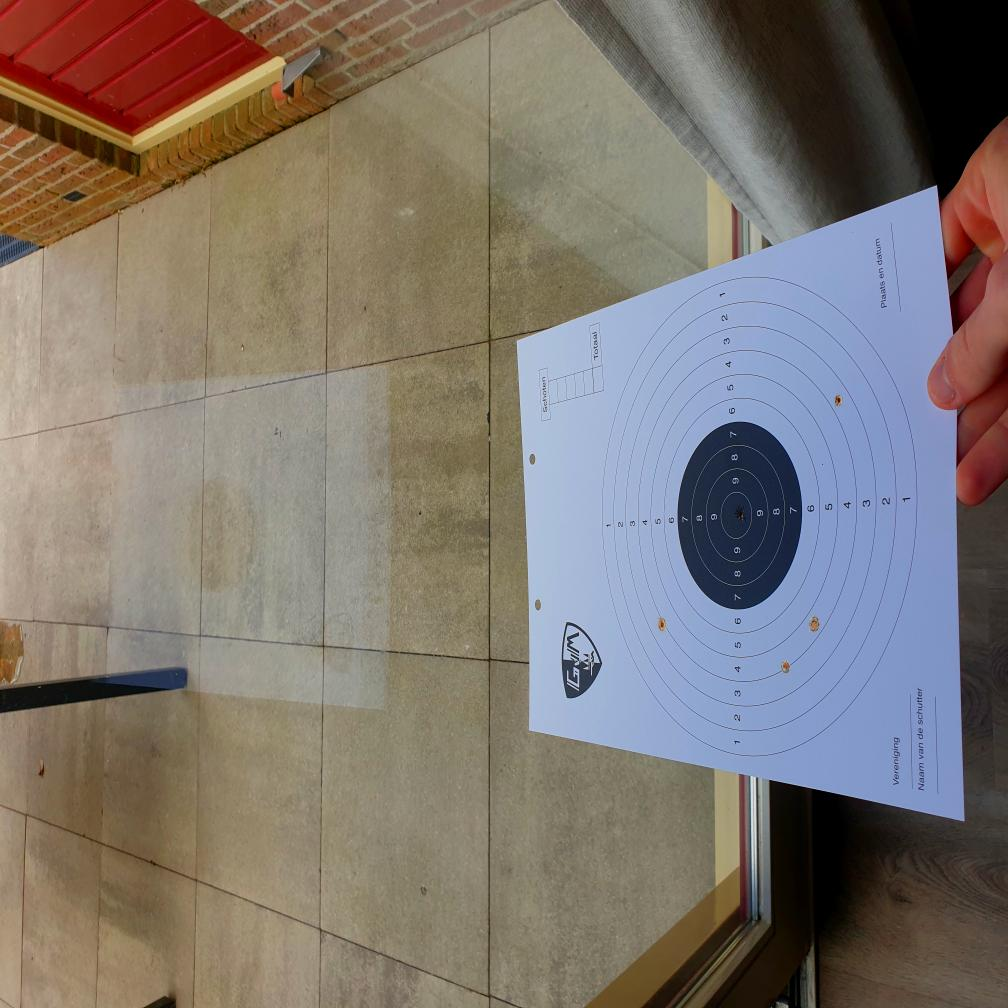10: (734, 505, 746, 523)
3: (834, 394, 843, 408)
4: (808, 616, 820, 633), (780, 660, 790, 676), (656, 618, 667, 632)
Target: (599, 274, 915, 759)
black_contour: (677, 421, 802, 609)
